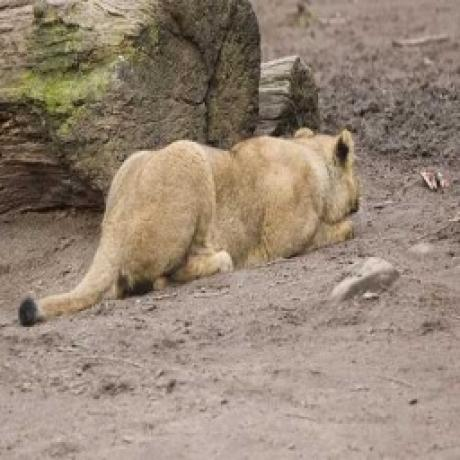Lion: (16, 125, 363, 328)
